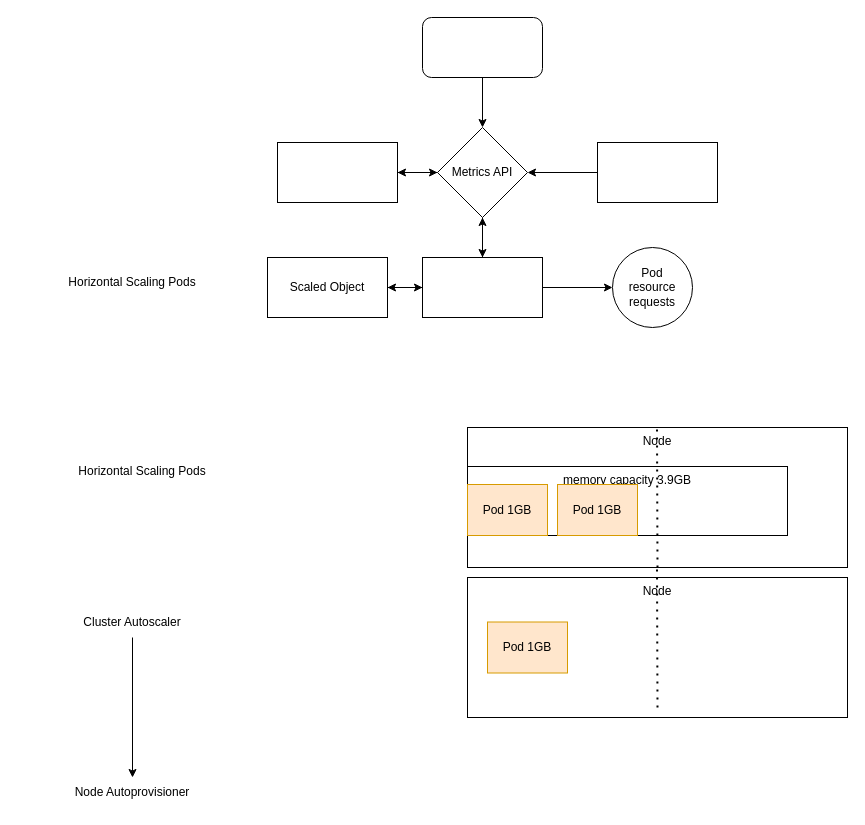
Some shapes in this 865 by 825 pixel diagram are drawn without their labels. Each missing label, with the centre of its shape:
"Controllers" goes at point (337, 172).
"CPU / Memory" goes at point (657, 172).
"Horizontal Pod Autoscaler" goes at point (482, 287).
"KEDA" goes at point (482, 47).
